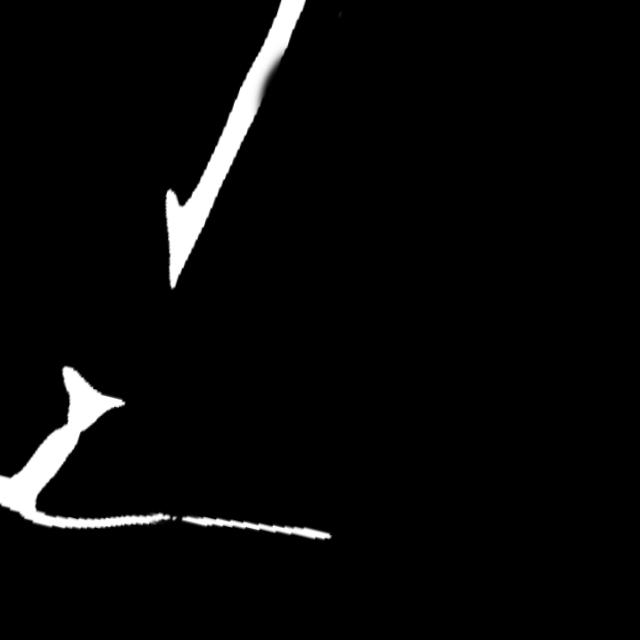inf: (163, 500, 208, 537)
